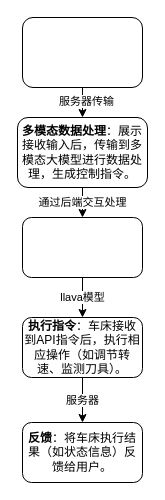
Some shapes in this 165 by 500 pixel diagram are drawn without their labels. The centre of each missing label's shape, as x and y in pixels:
"控制指令生成 ：标明通过LLAVA模型生成标准化的API指令。" belongs at [82,247].
"起点 ：从“用户输入”开始，输入可以是语音指令、文本或图像。" belongs at [82,52].
